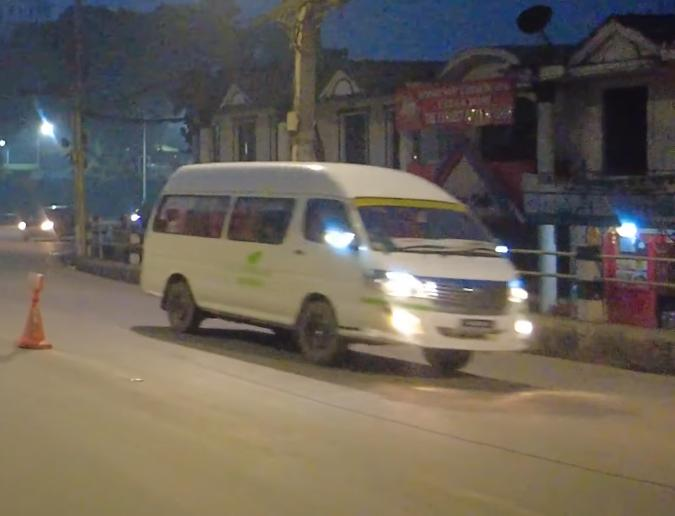micro_bus: (135, 155, 534, 382)
